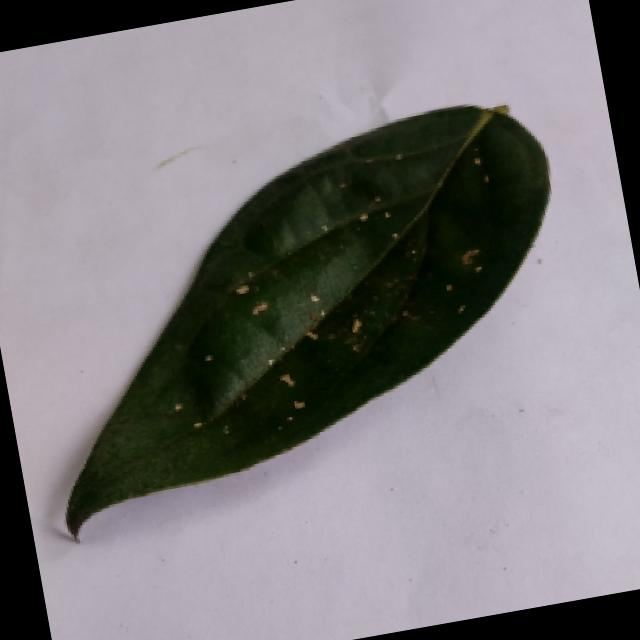pollu-disease: (0, 74, 598, 541)
